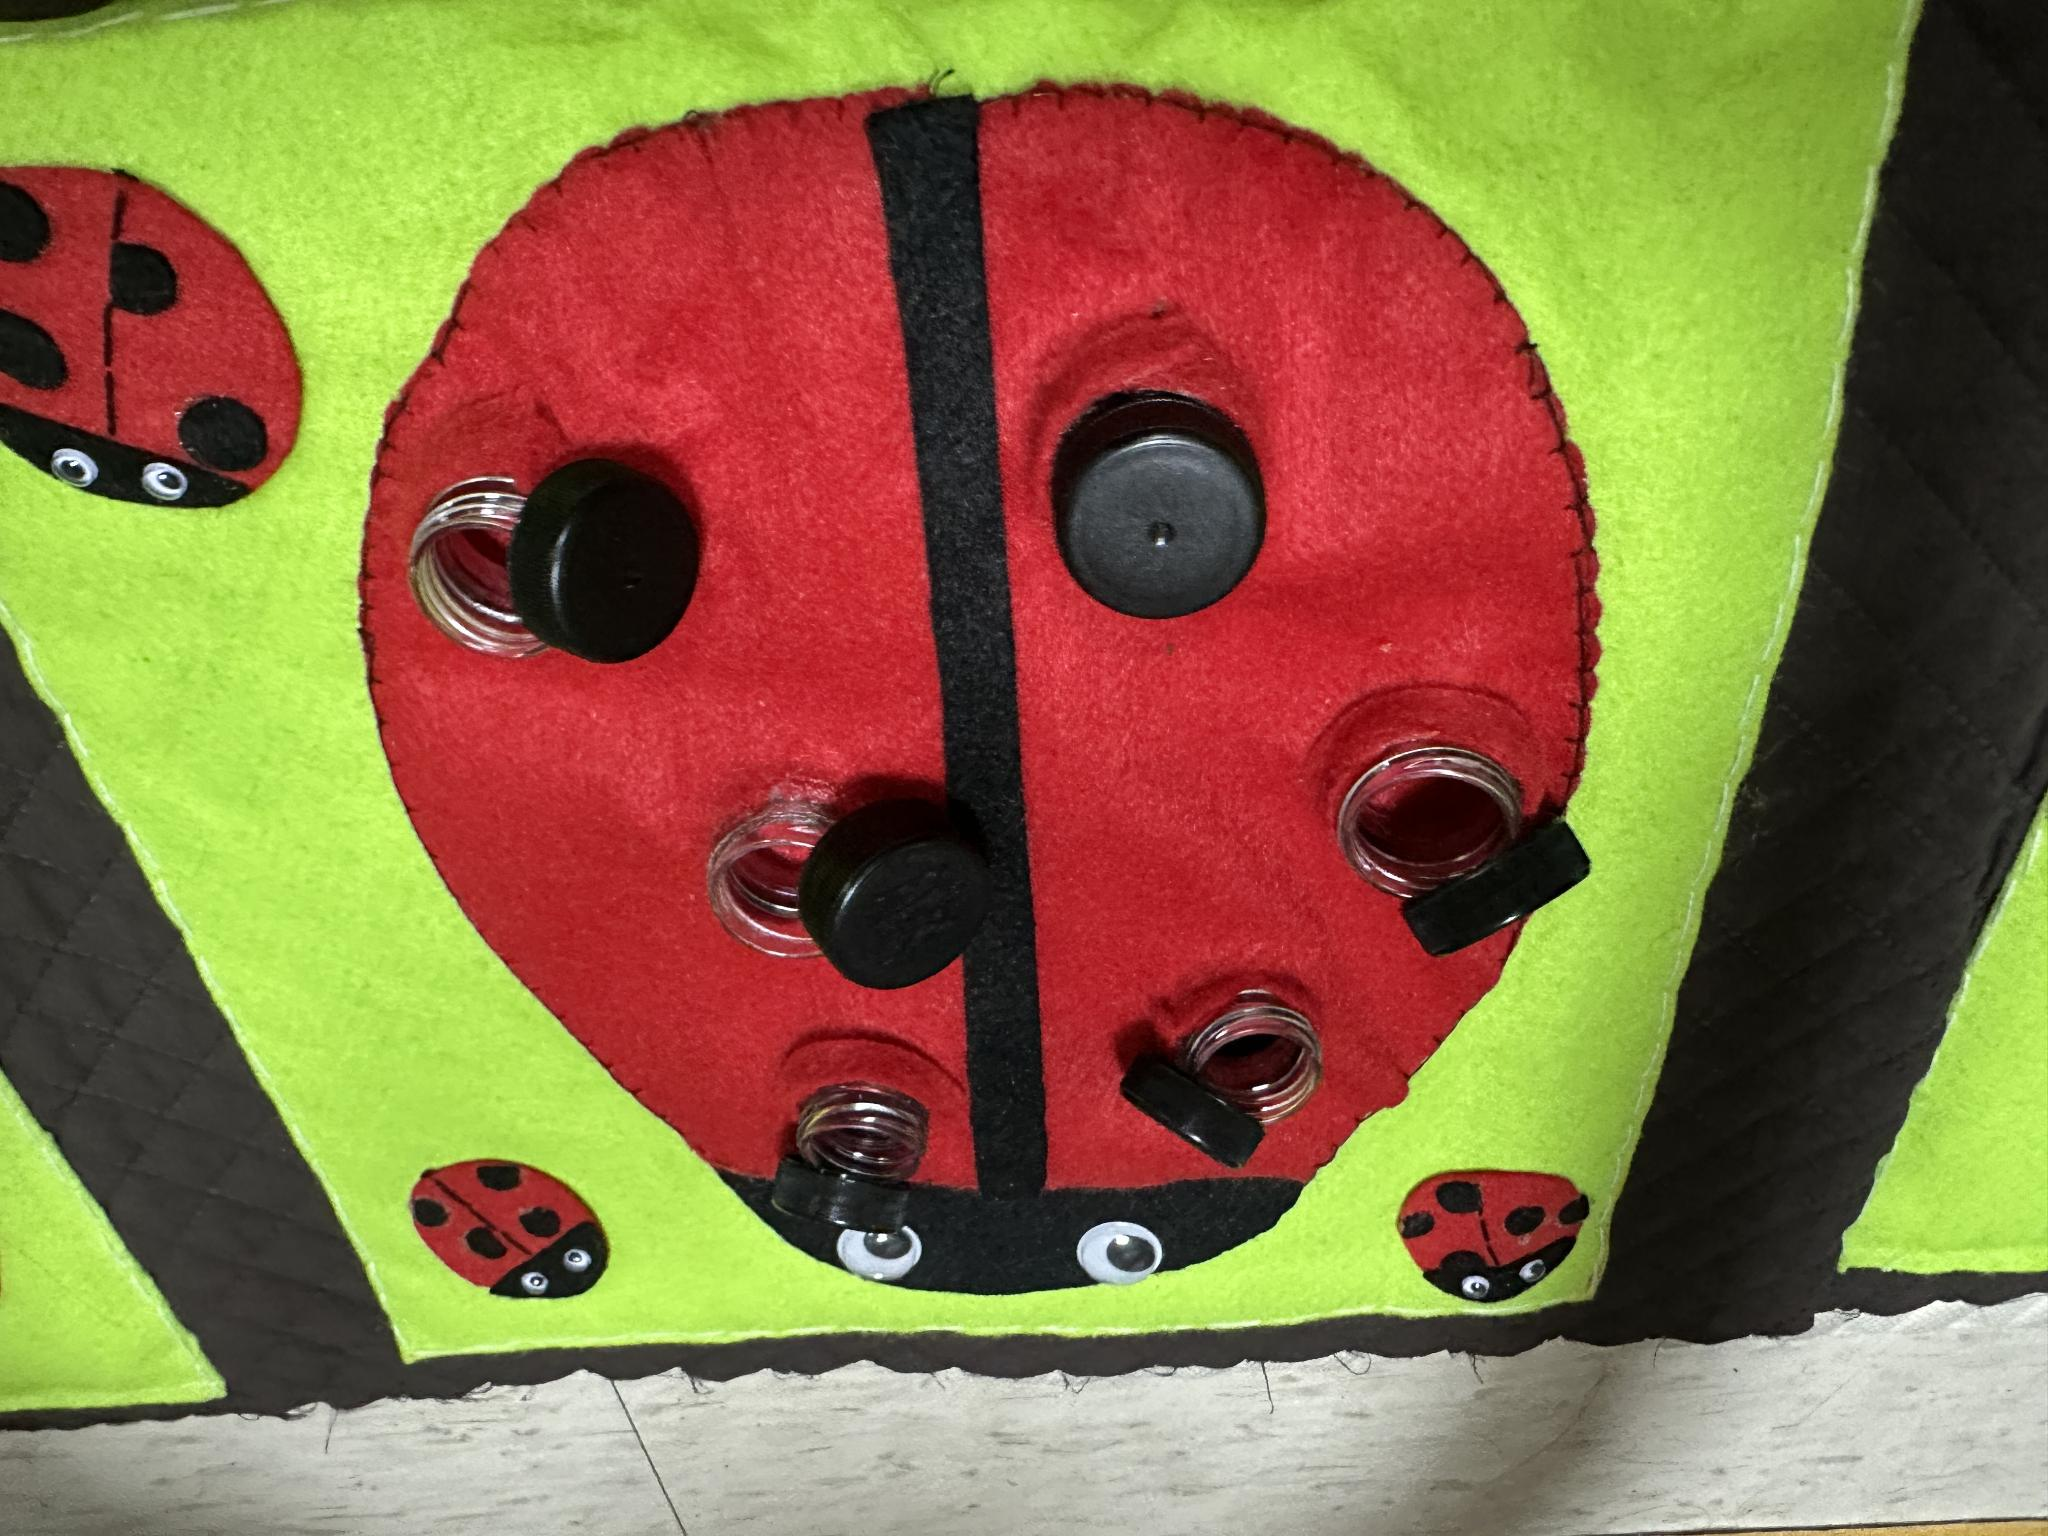cap_ng: (400, 444, 716, 689), (1332, 691, 1606, 971), (687, 763, 1011, 999), (1116, 947, 1350, 1184), (751, 1036, 980, 1236)
cap_ok: (1034, 340, 1300, 665)
